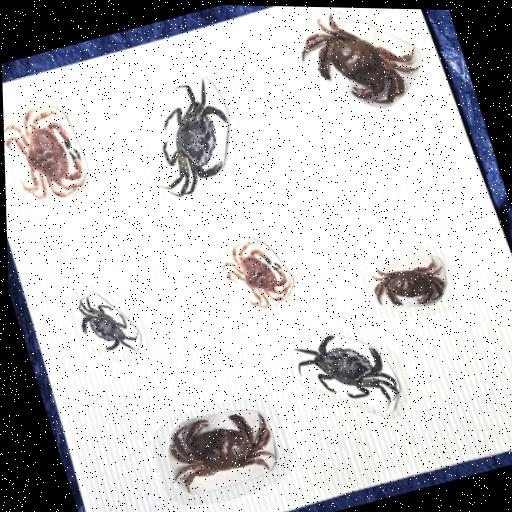European green crab: (279, 308, 421, 433), (129, 66, 253, 205), (71, 283, 148, 365)
John Crab: (3, 91, 101, 217), (209, 227, 306, 320)
Native rock crab: (280, 6, 434, 130), (148, 392, 290, 506), (359, 245, 460, 321)
